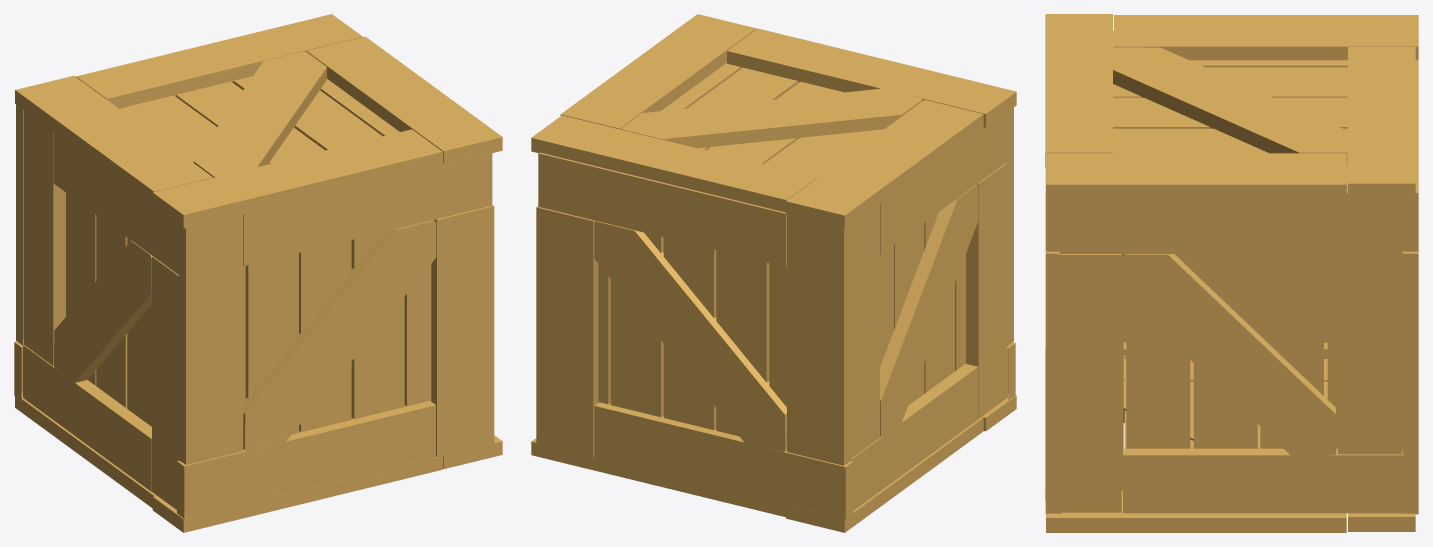
File: WoodenBox1.fbx
3 renders of one model, left to right at view 1: azimuth 30°, elevation 25°; view 2: azimuth 150°, elevation 25°; view 3: azimuth 270°, elevation 25°, orthographic. The views are drawn at different scales.
Visible parts, largest first — view 1: Woodbox1; view 2: Woodbox1; view 3: Woodbox1.
Part boxes in pixels (x1=…): Woodbox1: x1=14, y1=14, x2=502, y2=532; Woodbox1: x1=531, y1=14, x2=1016, y2=532; Woodbox1: x1=1045, y1=14, x2=1418, y2=532.
Size of the model in its own units: 658 by 626 by 608.
